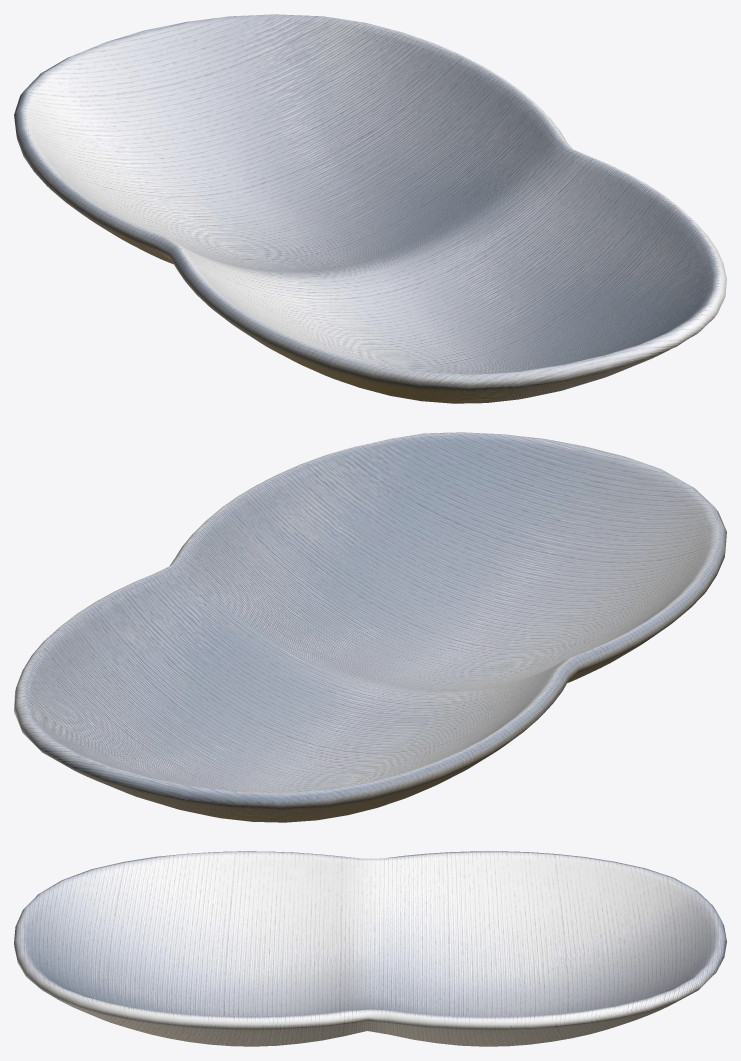
File: 20_EarlyForm2.glb
The picture shows the model from 3 angles, top to bottom: view 1: azimuth 30°, elevation 25°; view 2: azimuth 150°, elevation 25°; view 3: azimuth 270°, elevation 25°; orthographic projection. The views are drawn at different scales.
Parts seen in each view (by area): view 1: 20_Early Form2; view 2: 20_Early Form2; view 3: 20_Early Form2.
Boxes of the visible parts, <box> form: 20_Early Form2: <box>14,14,726,403</box>; 20_Early Form2: <box>14,432,726,822</box>; 20_Early Form2: <box>14,851,726,1046</box>.
Bounding box in the file's own units: 0.0462 × 0.0113 × 0.0811.
1 material, 1 textured.
